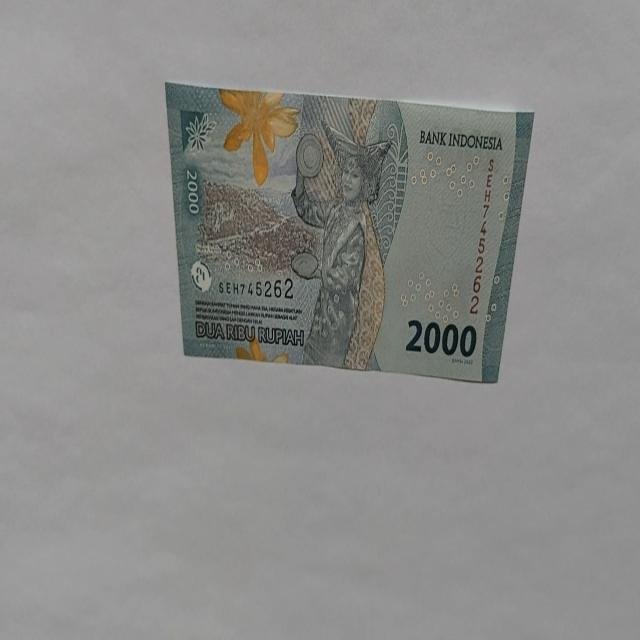dua ribu rupiah: (163, 82, 534, 384), (289, 121, 392, 369), (218, 86, 300, 187)
